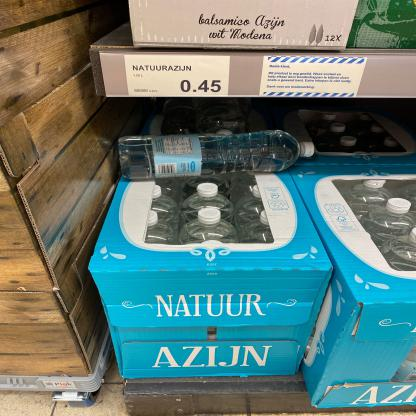prtg: (125, 56, 231, 97)
